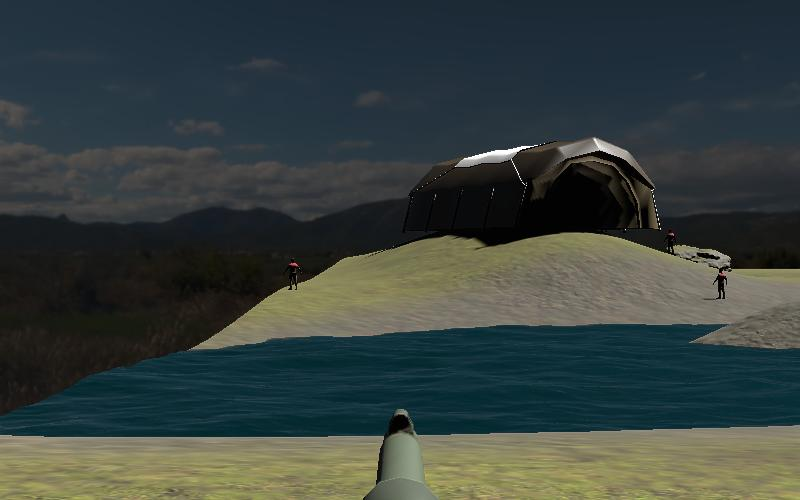Human: (283, 255, 303, 292), (710, 266, 730, 302), (662, 229, 679, 257)
